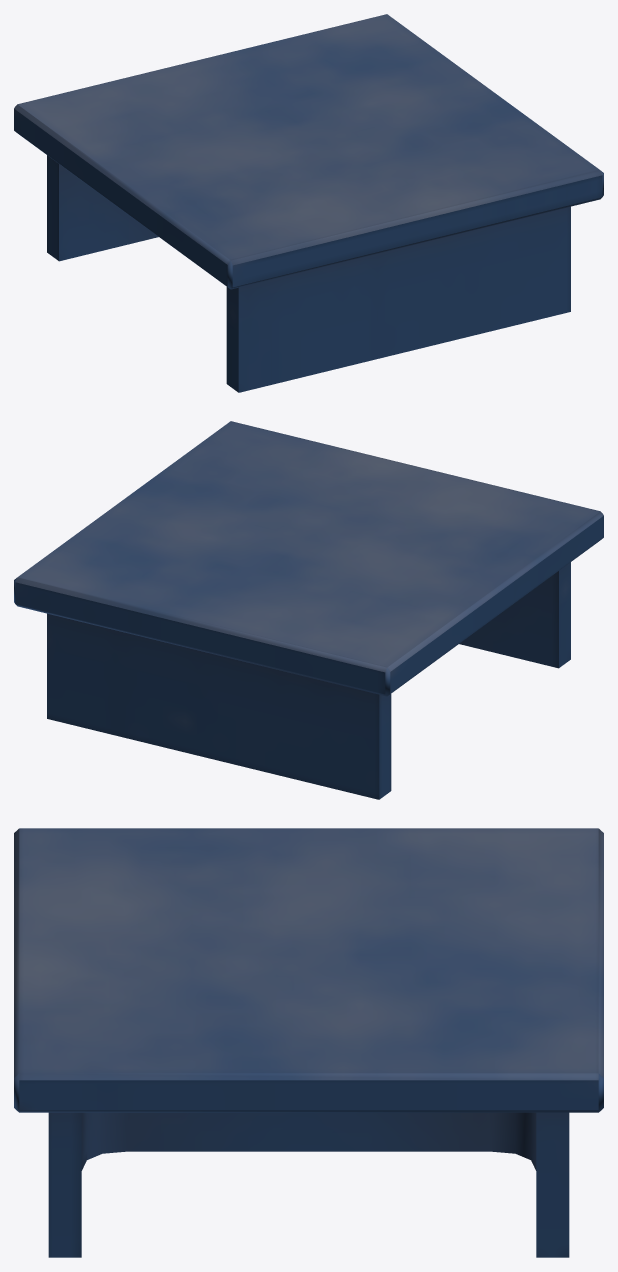
File: Column_Top.fbx
The picture shows the model from 3 angles, top to bottom: view 1: azimuth 30°, elevation 25°; view 2: azimuth 150°, elevation 25°; view 3: azimuth 270°, elevation 25°; orthographic projection. The views are drawn at different scales.
Parts seen in each view (by area): view 1: Column_Top_LOD0; view 2: Column_Top_LOD0; view 3: Column_Top_LOD0.
Part boxes in pixels (left/top/right/bottom): Column_Top_LOD0: left=14, top=14, right=603, bottom=392; Column_Top_LOD0: left=14, top=421, right=603, bottom=799; Column_Top_LOD0: left=14, top=828, right=603, bottom=1257.
Size of what is drawn, in the model's own units: 0.34 by 0.125 by 0.34.
Materials: 1 (1 with a texture image).
